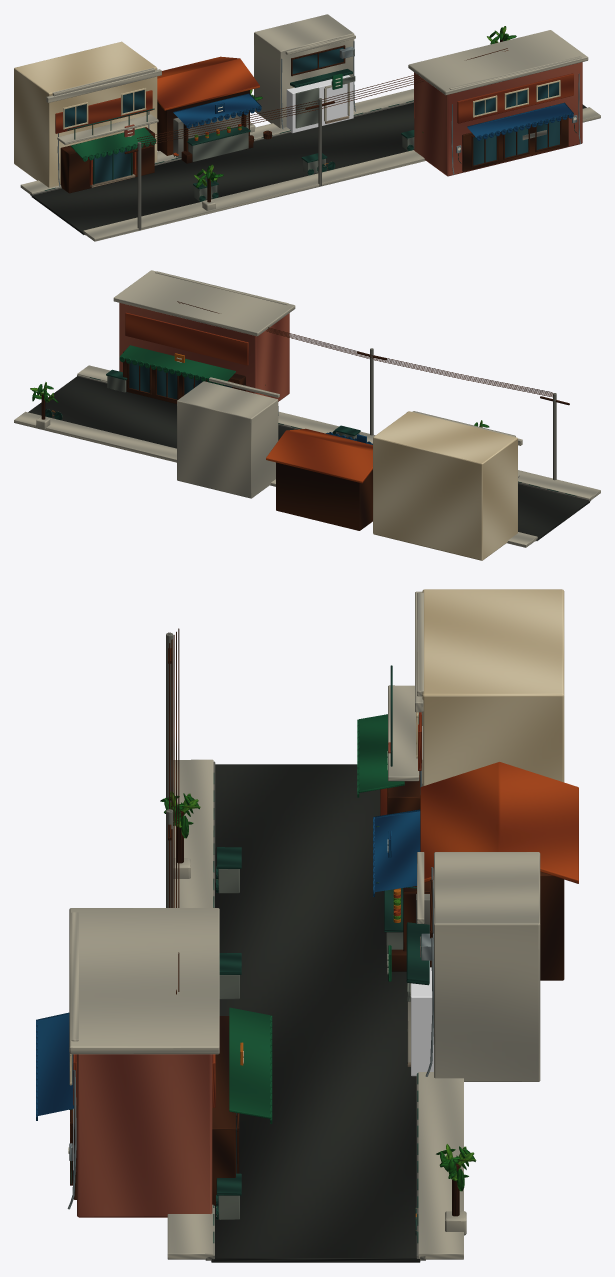
Rendered from HNP_Map007_Street_LOD1_v003.fbx.
The picture shows the model from 3 angles, top to bottom: view 1: azimuth 30°, elevation 25°; view 2: azimuth 150°, elevation 25°; view 3: azimuth 270°, elevation 25°; orthographic projection. The views are drawn at different scales.
Parts seen in each view (by area): view 1: MAP007_CORNER_LOD1_S0_MAT_Asphalt, MAP007_CORNER_LOD1_S0_MAT_Concrete_Light, MAP007_CORNER_LOD1_S-1_MAT_Station_WarmPlaster, MAP007_CORNER_LOD1_S1_MAT_Station_SunFadedSalmon, MAP007_CORNER_LOD1_S1_MAT_Concrete_Light, MAP007_CORNER_LOD1_S0_MAT_Terracotta_Roof, MAP007_CORNER_LOD1_S0_MAT_Aged_Timber, MAP007_CORNER_LOD1_S1_MAT_Window_Glass, MAP007_CORNER_LOD1_S0_MAT_Weathered_Shutter, MAP007_CORNER_LOD1_S-1_MAT_Concrete_Light, MAP007_CORNER_LOD1_S-1_MAT_Aged_Timber, MAP007_CORNER_LOD1_S-1_MAT_Window_Glass (+14 smaller); view 2: MAP007_CORNER_LOD1_S-1_MAT_Station_WarmPlaster, MAP007_CORNER_LOD1_S0_MAT_Concrete_Light, MAP007_CORNER_LOD1_S0_MAT_Asphalt, MAP007_CORNER_LOD1_S0_MAT_Aged_Timber, MAP007_CORNER_LOD1_S1_MAT_Concrete_Light, MAP007_CORNER_LOD1_S1_MAT_Station_SunFadedSalmon, MAP007_CORNER_LOD1_S0_MAT_Terracotta_Roof, MAP007_CORNER_LOD1_S1_MAT_Brick_Infill, MAP007_CORNER_LOD1_S1_MAT_Awning_Green, MAP007_CORNER_LOD1_S1_MAT_Window_Glass, MAP007_CORNER_LOD1_S1_MAT_Aged_Timber, MAP007_CORNER_LOD1_S0_MAT_Concrete_Aged; view 3: MAP007_CORNER_LOD1_S0_MAT_Asphalt, MAP007_CORNER_LOD1_S0_MAT_Concrete_Light, MAP007_CORNER_LOD1_S-1_MAT_Station_WarmPlaster, MAP007_CORNER_LOD1_S1_MAT_Concrete_Light, MAP007_CORNER_LOD1_S1_MAT_Station_SunFadedSalmon, MAP007_CORNER_LOD1_S0_MAT_Terracotta_Roof, MAP007_CORNER_LOD1_S0_MAT_Aged_Timber, MAP007_CORNER_LOD1_S1_MAT_Awning_Green, MAP007_CORNER_LOD1_S-1_MAT_Concrete_Light, MAP007_CORNER_LOD1_S1_MAT_Aged_Timber, MAP007_CORNER_LOD1_S0_MAT_Awning_Blue, MAP007_CORNER_LOD1_S1_MAT_Awning_Blue (+9 smaller).
Boxes of the visible parts, left/top/right/bottom form: MAP007_CORNER_LOD1_S0_MAT_Asphalt: left=31, top=102, right=586, bottom=234; MAP007_CORNER_LOD1_S0_MAT_Concrete_Light: left=20, top=14, right=600, bottom=241; MAP007_CORNER_LOD1_S-1_MAT_Station_WarmPlaster: left=14, top=41, right=157, bottom=187; MAP007_CORNER_LOD1_S1_MAT_Station_SunFadedSalmon: left=414, top=62, right=582, bottom=176; MAP007_CORNER_LOD1_S1_MAT_Concrete_Light: left=408, top=30, right=588, bottom=95; MAP007_CORNER_LOD1_S0_MAT_Terracotta_Roof: left=157, top=56, right=259, bottom=134; MAP007_CORNER_LOD1_S0_MAT_Aged_Timber: left=137, top=45, right=508, bottom=155; MAP007_CORNER_LOD1_S1_MAT_Window_Glass: left=473, top=82, right=559, bottom=165; MAP007_CORNER_LOD1_S0_MAT_Weathered_Shutter: left=188, top=76, right=414, bottom=174; MAP007_CORNER_LOD1_S-1_MAT_Concrete_Light: left=46, top=68, right=215, bottom=210; MAP007_CORNER_LOD1_S-1_MAT_Aged_Timber: left=60, top=124, right=194, bottom=193; MAP007_CORNER_LOD1_S-1_MAT_Window_Glass: left=64, top=90, right=144, bottom=183; MAP007_CORNER_LOD1_S-1_MAT_Station_WarmPlaster: left=373, top=411, right=517, bottom=560; MAP007_CORNER_LOD1_S0_MAT_Concrete_Light: left=14, top=365, right=600, bottom=547; MAP007_CORNER_LOD1_S0_MAT_Asphalt: left=28, top=376, right=589, bottom=540; MAP007_CORNER_LOD1_S0_MAT_Aged_Timber: left=177, top=301, right=553, bottom=530; MAP007_CORNER_LOD1_S1_MAT_Concrete_Light: left=36, top=270, right=295, bottom=429; MAP007_CORNER_LOD1_S1_MAT_Station_SunFadedSalmon: left=119, top=303, right=289, bottom=401; MAP007_CORNER_LOD1_S0_MAT_Terracotta_Roof: left=266, top=428, right=372, bottom=483; MAP007_CORNER_LOD1_S1_MAT_Brick_Infill: left=125, top=312, right=248, bottom=365; MAP007_CORNER_LOD1_S1_MAT_Awning_Green: left=119, top=345, right=235, bottom=385; MAP007_CORNER_LOD1_S1_MAT_Window_Glass: left=129, top=360, right=231, bottom=399; MAP007_CORNER_LOD1_S1_MAT_Aged_Timber: left=123, top=351, right=245, bottom=403; MAP007_CORNER_LOD1_S0_MAT_Concrete_Aged: left=77, top=348, right=590, bottom=541; MAP007_CORNER_LOD1_S0_MAT_Asphalt: left=211, top=764, right=420, bottom=1262; MAP007_CORNER_LOD1_S0_MAT_Concrete_Light: left=167, top=759, right=540, bottom=1259; MAP007_CORNER_LOD1_S-1_MAT_Station_WarmPlaster: left=416, top=589, right=564, bottom=786; MAP007_CORNER_LOD1_S1_MAT_Concrete_Light: left=69, top=908, right=466, bottom=1235; MAP007_CORNER_LOD1_S1_MAT_Station_SunFadedSalmon: left=76, top=1054, right=212, bottom=1217; MAP007_CORNER_LOD1_S0_MAT_Terracotta_Roof: left=393, top=762, right=578, bottom=916; MAP007_CORNER_LOD1_S0_MAT_Aged_Timber: left=168, top=628, right=564, bottom=994; MAP007_CORNER_LOD1_S1_MAT_Awning_Green: left=229, top=1007, right=272, bottom=1123; MAP007_CORNER_LOD1_S-1_MAT_Concrete_Light: left=173, top=591, right=423, bottom=878; MAP007_CORNER_LOD1_S1_MAT_Aged_Timber: left=70, top=1016, right=239, bottom=1205; MAP007_CORNER_LOD1_S0_MAT_Awning_Blue: left=373, top=809, right=420, bottom=896; MAP007_CORNER_LOD1_S1_MAT_Awning_Blue: left=36, top=1012, right=73, bottom=1120.
Bounding box in the file's own units: 5600 × 1043 × 2600.
